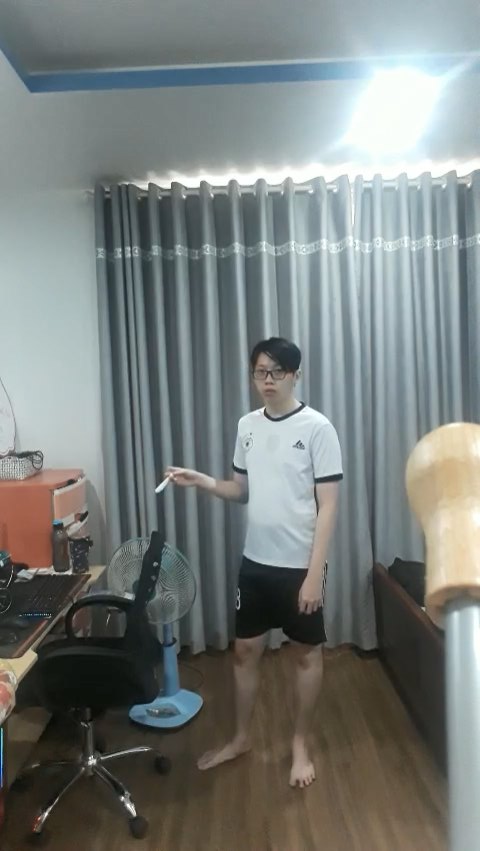cigarette: (153, 477, 171, 494)
person: (210, 334, 350, 769)
